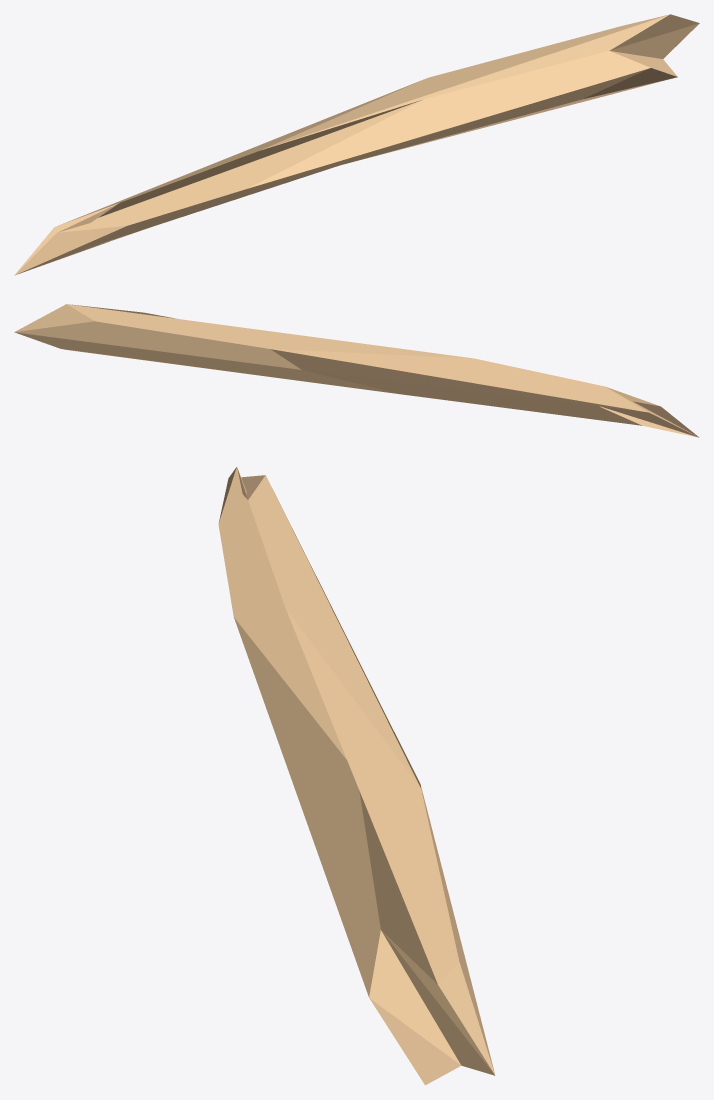
The model's file is Branch 4.fbx.
3 views of the same model, one above another, from view 1: azimuth 30°, elevation 25°; view 2: azimuth 150°, elevation 25°; view 3: azimuth 270°, elevation 25° (orthographic). The views are drawn at different scales.
Parts seen in each view (by area): view 1: Branch 4; view 2: Branch 4; view 3: Branch 4.
Boxes of the visible parts, box(x1,y1,x2,y2) form: Branch 4: box(14, 14, 699, 275); Branch 4: box(14, 304, 699, 437); Branch 4: box(218, 467, 495, 1085).
Bounding box in the file's own units: 39.38 × 3.46 × 7.63.
